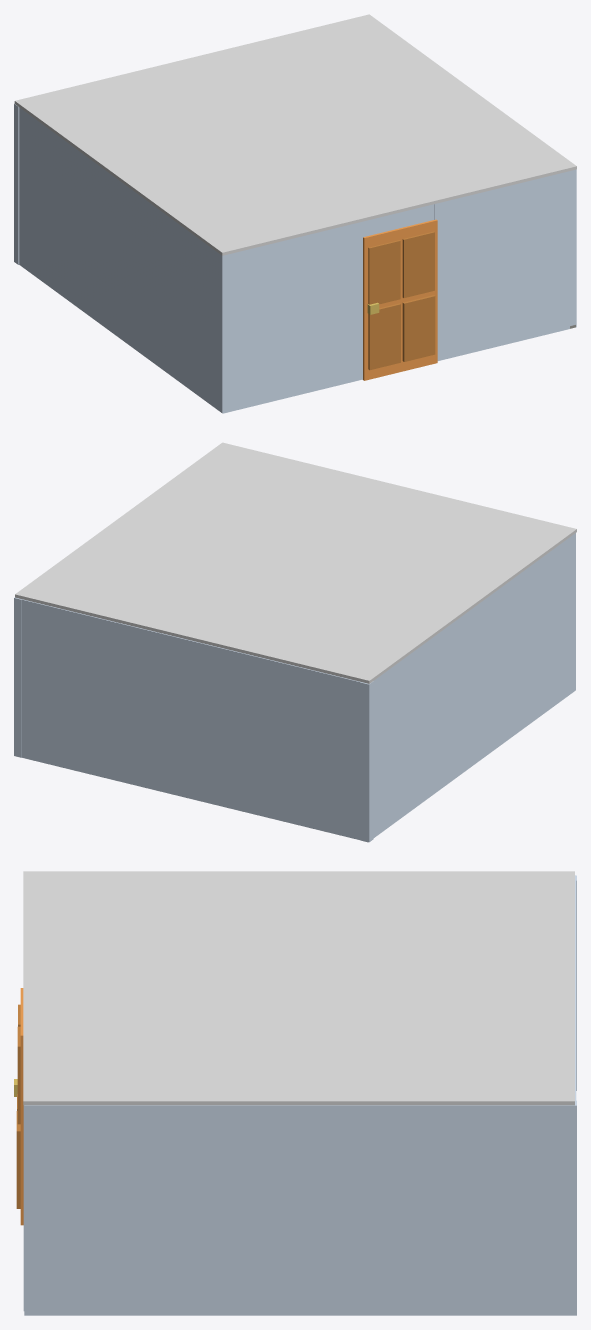
Rendered from Kitchen.fbx.
The picture shows the model from 3 angles, top to bottom: view 1: azimuth 30°, elevation 25°; view 2: azimuth 150°, elevation 25°; view 3: azimuth 270°, elevation 25°; orthographic projection. The views are drawn at different scales.
Visible parts, largest first — view 1: Cube.025, Cube.011, Cube.013, Cube.015, Cube.016, Cube.018, Cube.009, Cube.012; view 2: Cube.025, Cube.012, Cube.011, Cube.009; view 3: Cube.025, Cube.009, Cube.016.
Boxes of the visible parts, x1,y1,x2,y2 form: Cube.025: [14, 14, 576, 255]; Cube.011: [19, 107, 222, 413]; Cube.013: [223, 221, 364, 413]; Cube.015: [434, 171, 569, 360]; Cube.016: [363, 219, 437, 380]; Cube.018: [364, 204, 433, 236]; Cube.009: [570, 169, 576, 327]; Cube.012: [14, 103, 19, 264]; Cube.025: [15, 442, 576, 683]; Cube.012: [22, 599, 373, 842]; Cube.011: [360, 533, 575, 842]; Cube.009: [14, 597, 21, 757]; Cube.025: [23, 871, 574, 1105]; Cube.009: [24, 1100, 576, 1315]; Cube.016: [14, 988, 23, 1225].
Size of the model in its own units: 1286 by 560 by 1329.
